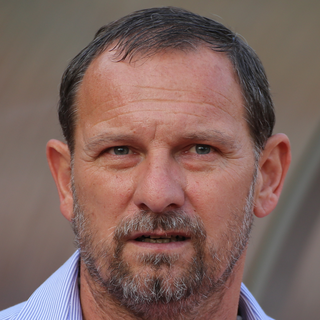eye: (171, 141, 229, 165), (92, 142, 146, 166)
